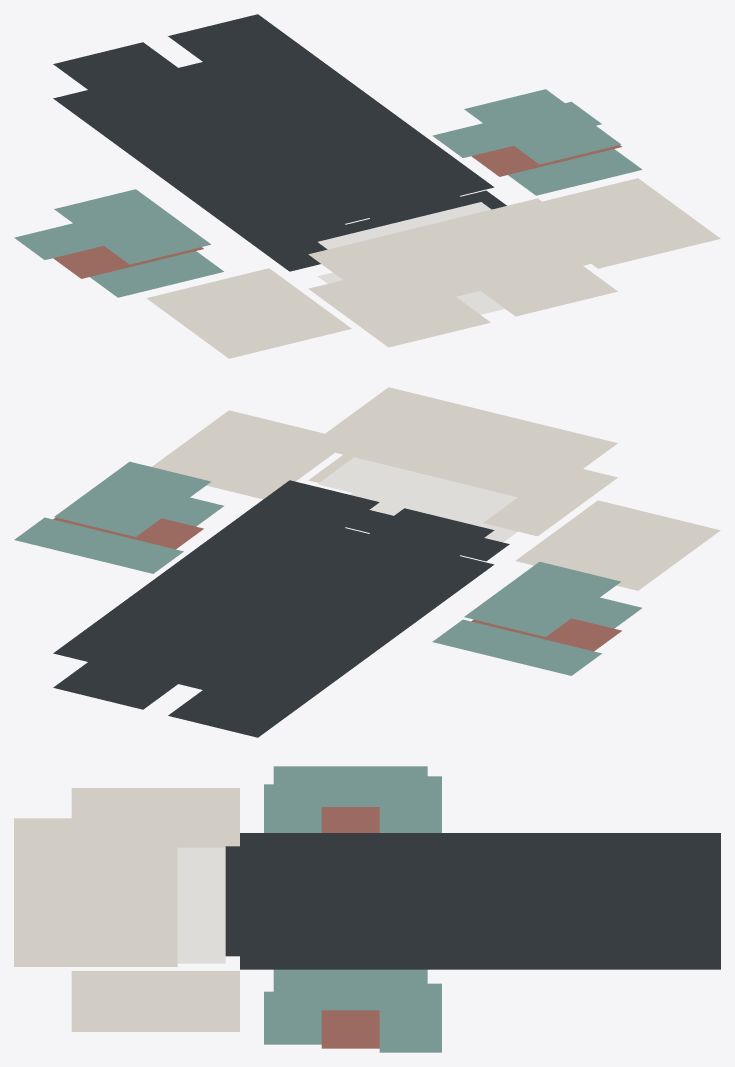
Rendered from structural.obj.
The picture shows the model from 3 angles, top to bottom: view 1: azimuth 30°, elevation 25°; view 2: azimuth 150°, elevation 25°; view 3: azimuth 270°, elevation 25°; orthographic projection.
Visible parts, largest first — view 1: trouser_back_L, trouser_back_R, vest_back, sleeve_L, sleeve_R, trouser_front_L, cuff_facing_L, cuff_facing_R, vest_front_L, trouser_front_R, vest_front_R, waistband (+8 smaller); view 2: trouser_back_R, trouser_back_L, vest_back, trouser_front_L, sleeve_L, sleeve_R, trouser_front_R, cuff_facing_L, cuff_facing_R, inner_back, cuff_R_C, cuff_L_C (+7 smaller); view 3: trouser_back_L, trouser_back_R, vest_back, trouser_front_R, sleeve_R, sleeve_L, cuff_facing_R, cuff_facing_L, vest_front_R, trouser_front_L, inner_back, cuff_R_C (+7 smaller).
Part boxes in pixels (box(x1,y1,x2,y2)): trouser_back_L: box(53, 42, 379, 237); trouser_back_R: box(168, 14, 494, 209); vest_back: box(308, 198, 617, 313); sleeve_L: box(146, 268, 351, 358); sleeve_R: box(542, 178, 720, 268); trouser_front_L: box(53, 90, 345, 271); cuff_facing_L: box(54, 189, 210, 264); cuff_facing_R: box(464, 89, 620, 164); vest_front_L: box(308, 280, 490, 347); trouser_front_R: box(179, 62, 460, 218); vest_front_R: box(481, 266, 617, 316); waistband: box(265, 190, 506, 261); trouser_back_R: box(53, 480, 379, 675); trouser_back_L: box(168, 508, 494, 703); vest_back: box(308, 387, 617, 501); trouser_front_L: box(168, 556, 494, 737); sleeve_L: box(515, 500, 720, 590); sleeve_R: box(152, 410, 334, 499); trouser_front_R: box(53, 528, 368, 709); cuff_facing_L: box(464, 561, 620, 636); cuff_facing_R: box(54, 461, 210, 536); inner_back: box(317, 457, 517, 523); cuff_R_C: box(14, 517, 183, 573); cuff_L_C: box(432, 619, 601, 675); trouser_back_L: box(240, 833, 720, 877); trouser_back_R: box(240, 890, 720, 934); vest_back: box(14, 818, 177, 931); trouser_front_R: box(240, 934, 720, 969); sleeve_R: box(71, 971, 239, 1031); sleeve_L: box(71, 788, 239, 847); cuff_facing_R: box(273, 969, 427, 1010); cuff_facing_L: box(273, 766, 427, 806); vest_front_R: box(14, 932, 177, 966); trouser_front_L: box(273, 878, 720, 889); inner_back: box(177, 847, 225, 928); cuff_R_C: box(379, 983, 441, 1052).
Bounding box in the file's own units: 1.36 × 0.11 × 1.47.
